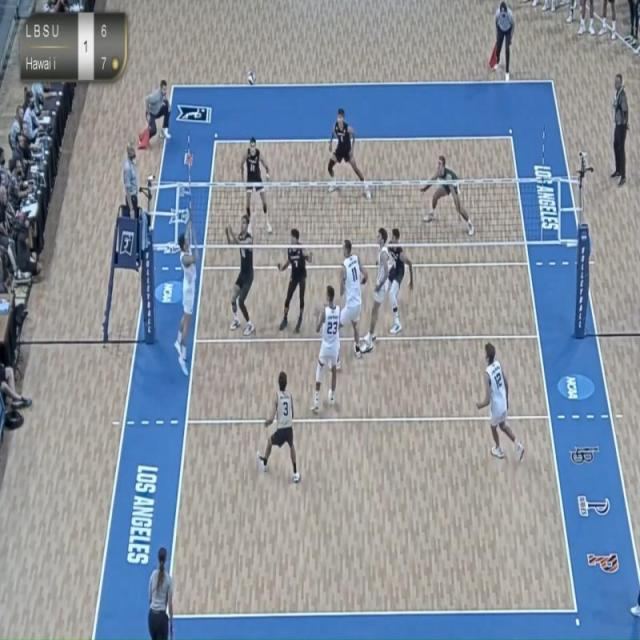volleyball: (244, 67, 259, 93)
